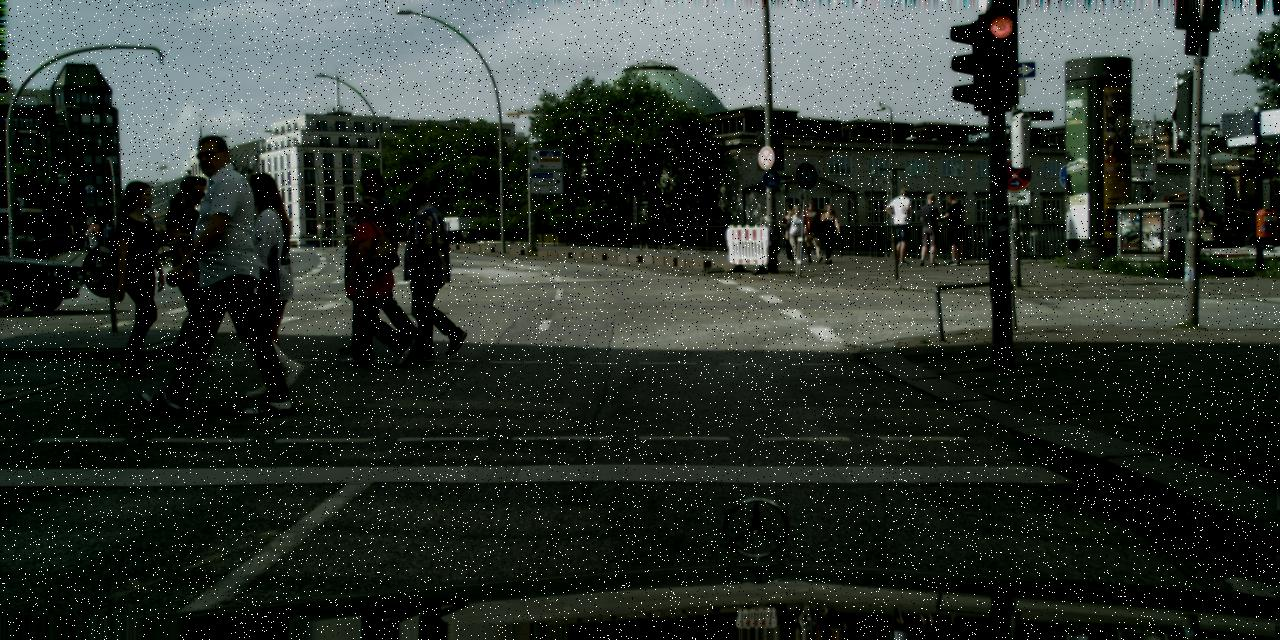ped: (156, 134, 270, 414), (224, 173, 314, 393), (99, 180, 178, 374), (154, 176, 232, 367), (339, 169, 414, 355), (392, 178, 466, 360), (342, 196, 410, 363), (886, 186, 916, 264), (914, 193, 944, 265), (938, 193, 967, 264), (799, 200, 825, 262), (816, 204, 840, 262), (784, 205, 807, 263), (778, 208, 801, 263), (102, 222, 114, 250), (86, 226, 95, 250)
